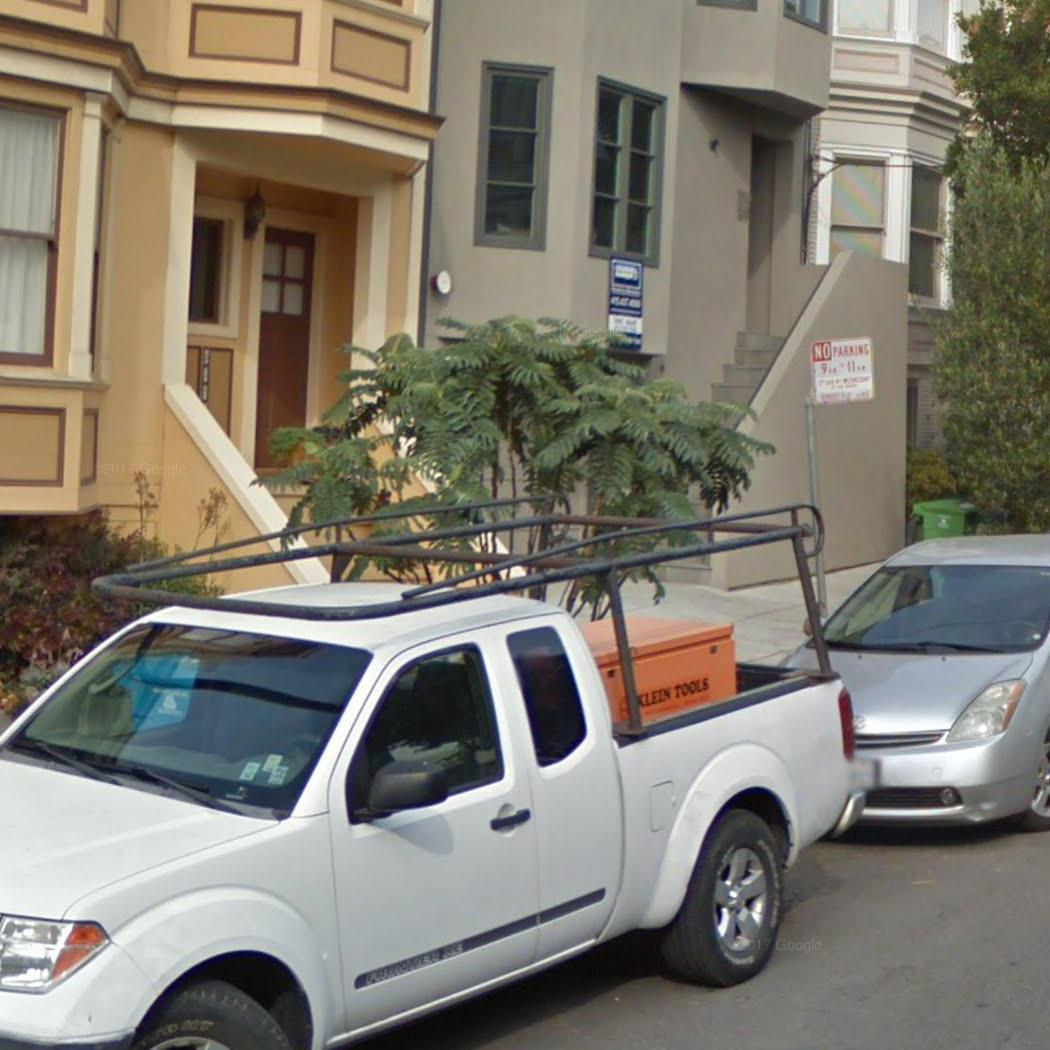No Parking: (805, 333, 879, 409)
